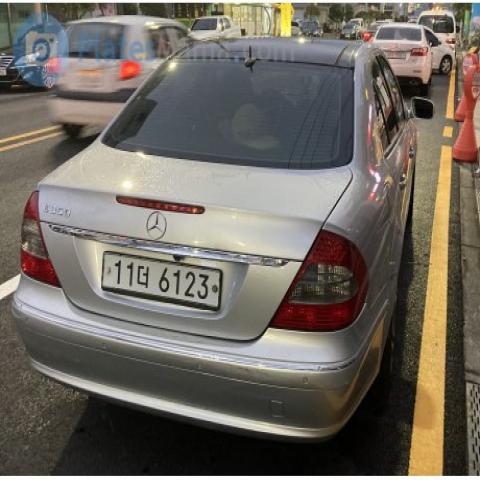LP: (81, 236, 231, 324)
